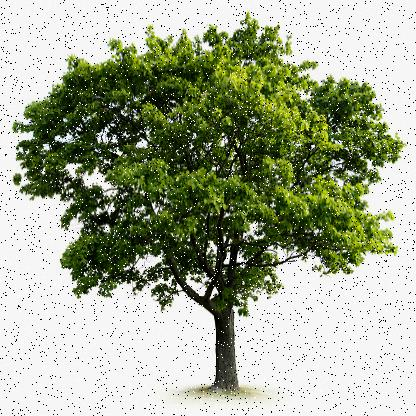Tree: (15, 19, 398, 386)
